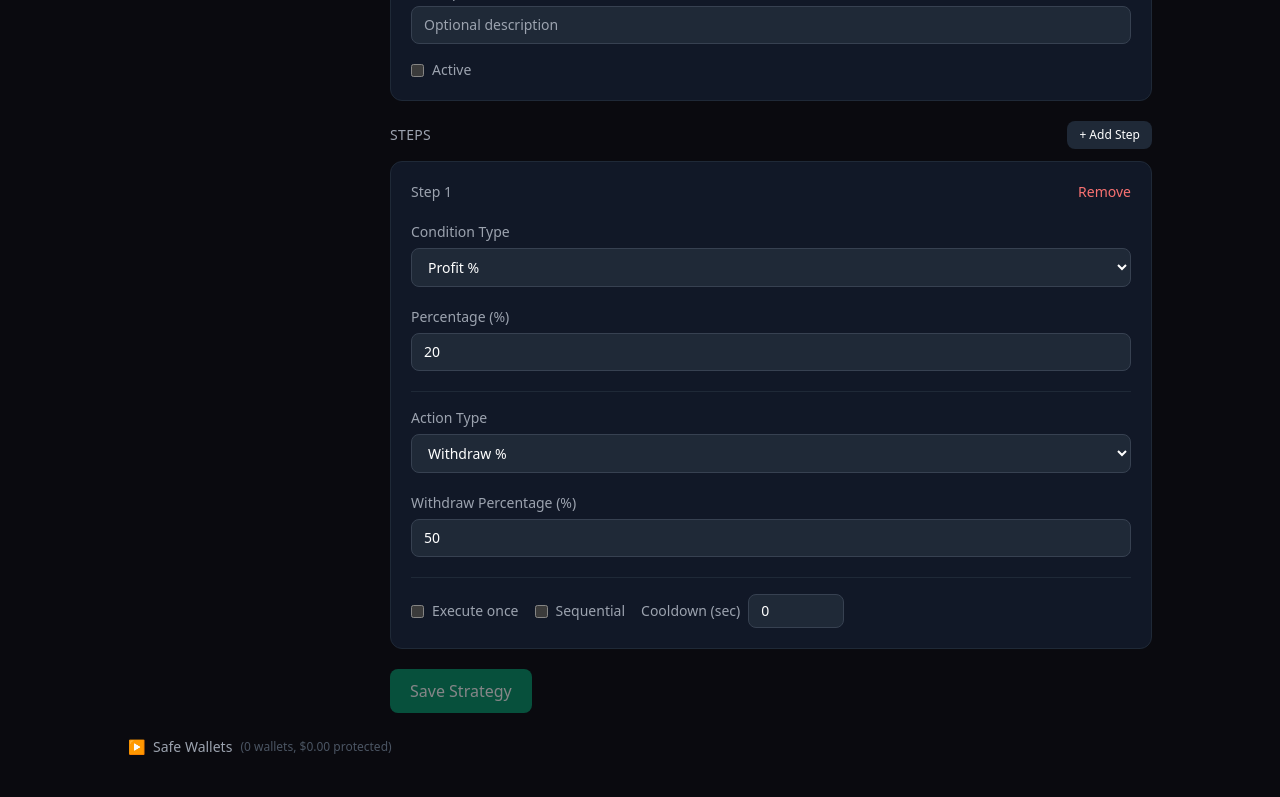
Test case: WithdrawalPage › toggles safe wallets section
(page scrolled)
Click the text "Safe Wallets": (193, 747) x1=153 y1=737 x2=232 y2=757
(page scrolled)
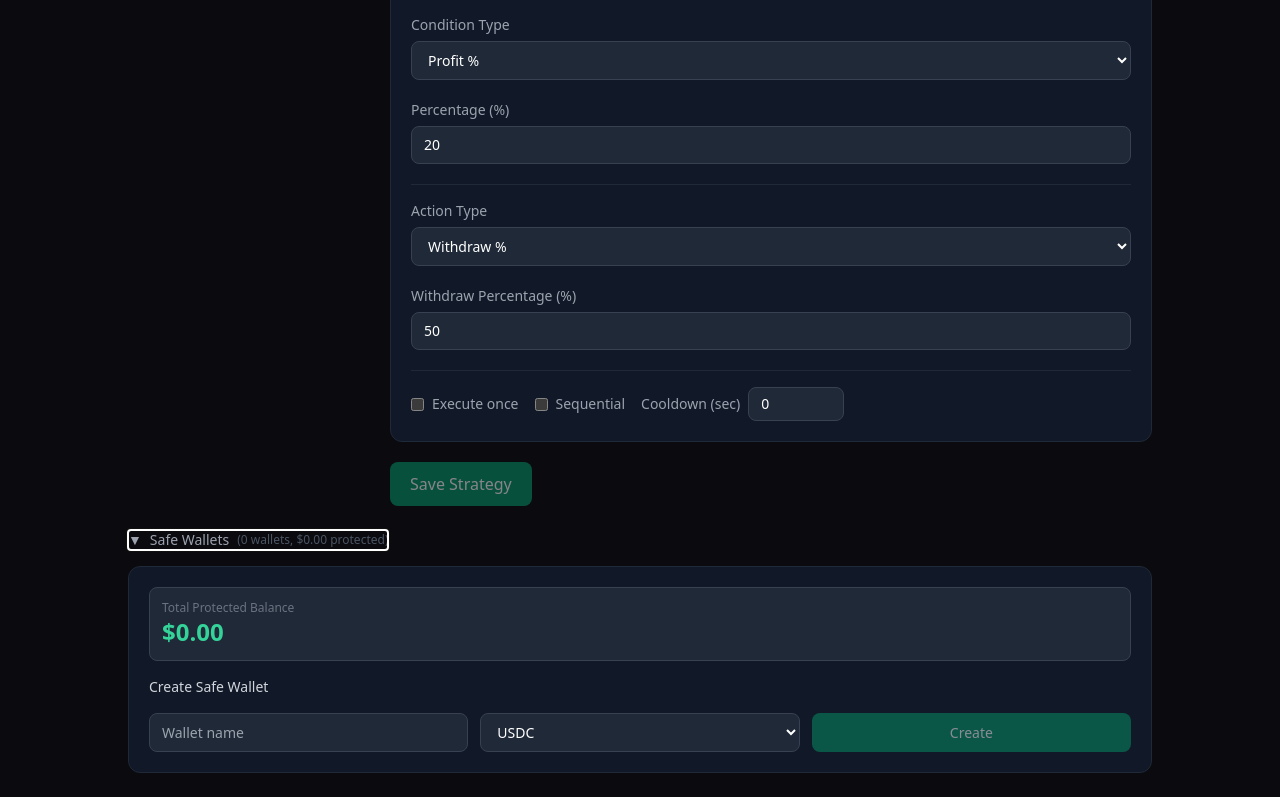
expect the heading "Create Safe Wallet" is shown: met, box x1=149 y1=677 x2=268 y2=697
